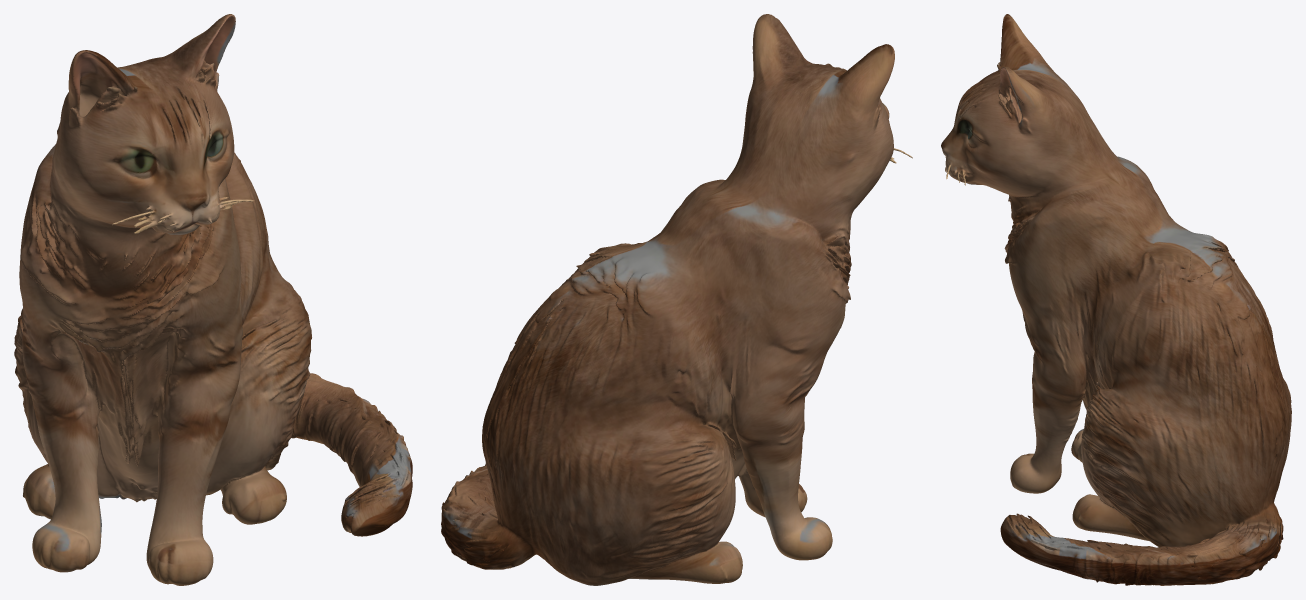
Rendered from puspin.glb.
3 views of the same model, side by side, from view 1: azimuth 30°, elevation 25°; view 2: azimuth 150°, elevation 25°; view 3: azimuth 270°, elevation 25° (orthographic). The views are drawn at different scales.
Parts seen in each view (by area): view 1: tripo_node_889a487a-1fa8-49d6-8454-a8cf7cabcc81; view 2: tripo_node_889a487a-1fa8-49d6-8454-a8cf7cabcc81; view 3: tripo_node_889a487a-1fa8-49d6-8454-a8cf7cabcc81.
Boxes of the visible parts, x1,y1,x2,y2 form: tripo_node_889a487a-1fa8-49d6-8454-a8cf7cabcc81: [14, 14, 412, 585]; tripo_node_889a487a-1fa8-49d6-8454-a8cf7cabcc81: [441, 14, 912, 585]; tripo_node_889a487a-1fa8-49d6-8454-a8cf7cabcc81: [941, 14, 1291, 585].
Size of the model in its own units: 0.7382 by 1 by 0.731.
1 material, 1 textured.
